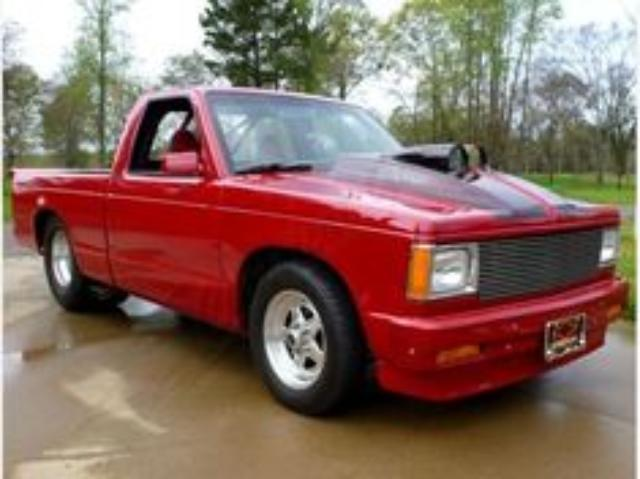pickup-truck: (11, 86, 629, 418)
